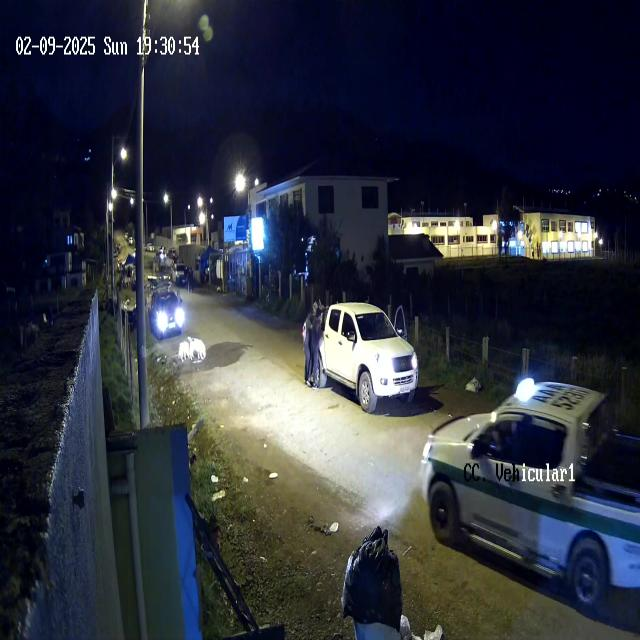CMT: (418, 378, 639, 593)
